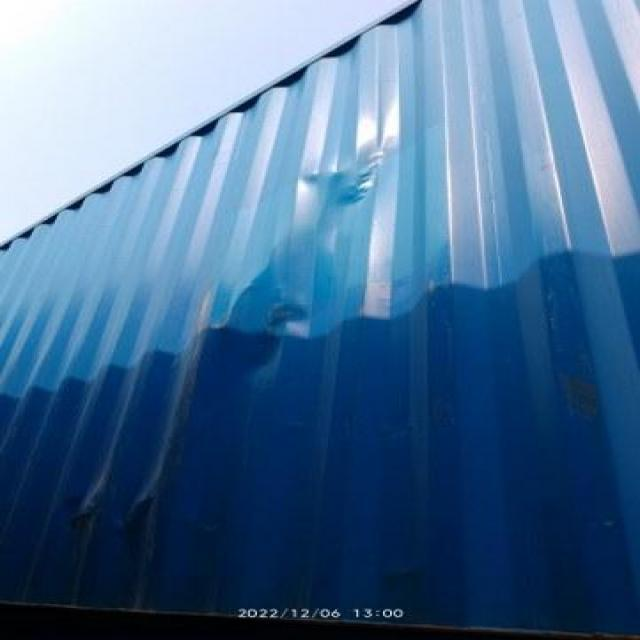dent: (49, 465, 198, 585), (179, 294, 333, 393), (312, 138, 408, 221)
